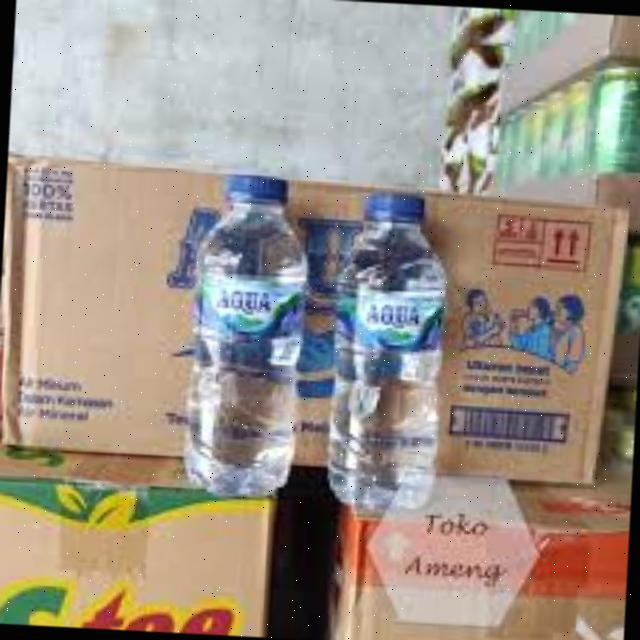bottle: (158, 149, 332, 484), (316, 156, 464, 515)
cap: (354, 188, 428, 232), (222, 173, 289, 208)
label: (184, 273, 310, 343), (338, 291, 451, 351)
